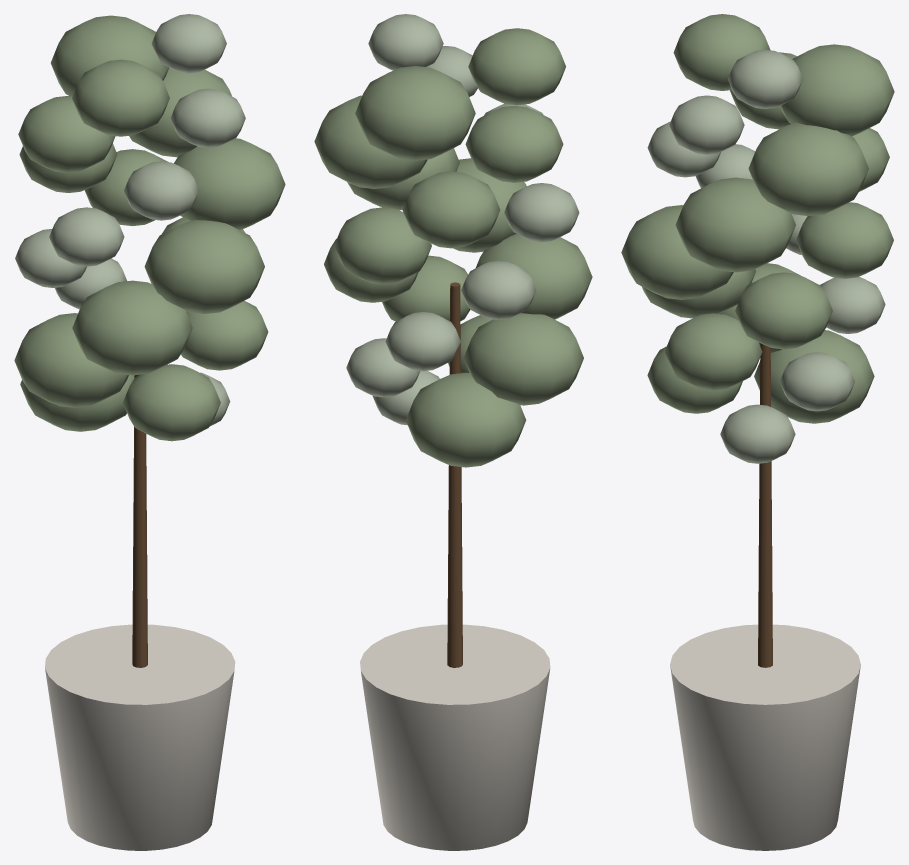
Rendered from plante-olivier-tige.glb.
3 views of the same model, side by side, from view 1: azimuth 30°, elevation 25°; view 2: azimuth 150°, elevation 25°; view 3: azimuth 270°, elevation 25° (orthographic).
Parts seen in each view (by area): view 1: produit; view 2: produit; view 3: produit.
Part boxes in pixels (x1,y1,x2,y2): produit: (14,14,285,850); produit: (314,14,592,850); produit: (621,14,894,850).
Size of the model in its own units: 0.2779 by 0.8672 by 0.2719.
